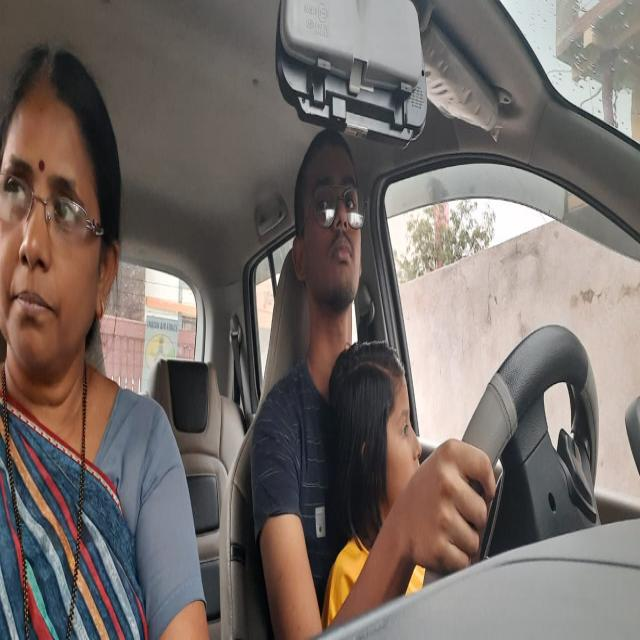child: (329, 332, 422, 524)
person: (1, 41, 121, 394), (292, 123, 367, 320)
